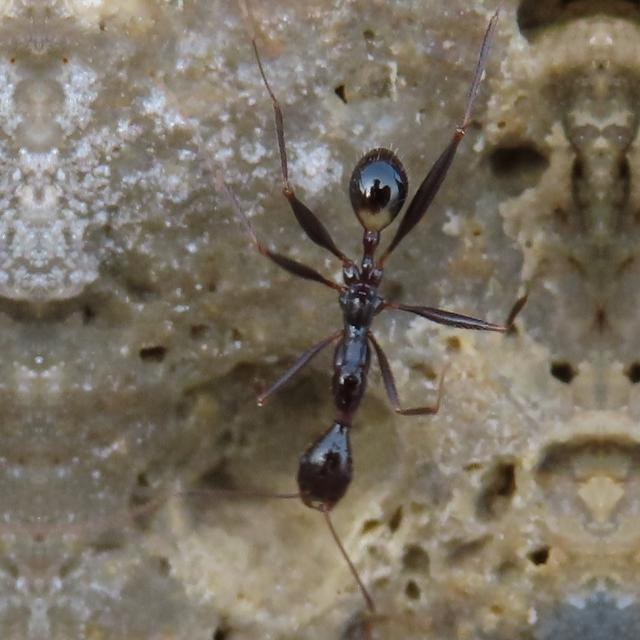Apheanogaster: (238, 110, 466, 560)
